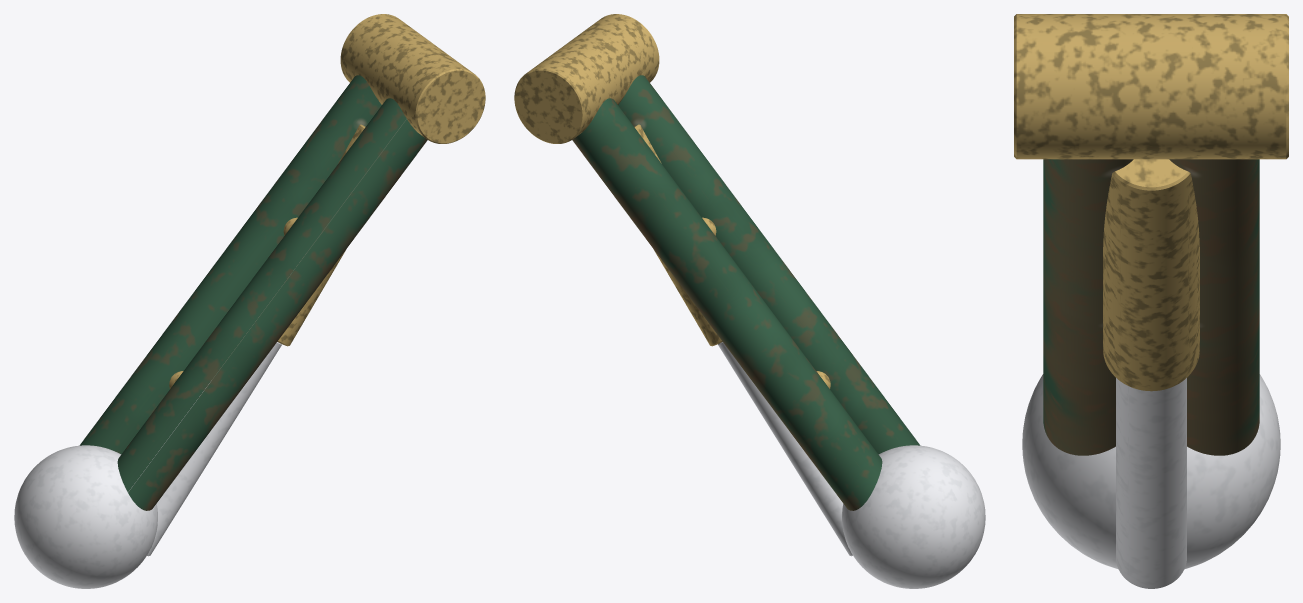
The model's file is colossus_thigh.glb.
3 renders of one model, left to right at view 1: azimuth 30°, elevation 25°; view 2: azimuth 150°, elevation 25°; view 3: azimuth 270°, elevation 25°, orthographic. The views are drawn at different scales.
Parts seen in each view (by area): view 1: colossus_thigh; view 2: colossus_thigh; view 3: colossus_thigh.
Part boxes in pixels (left/top/right/bottom): colossus_thigh: left=14, top=14, right=485, bottom=588; colossus_thigh: left=514, top=14, right=985, bottom=588; colossus_thigh: left=1014, top=14, right=1288, bottom=588.
Bounding box in the file's own units: 5.45 × 5.65 × 1.7.
Materials: 3 (3 with a texture image).
